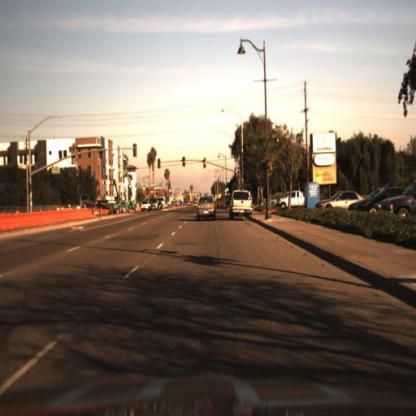car: (378, 175, 416, 220), (350, 183, 400, 216), (316, 189, 367, 215), (225, 188, 256, 228), (228, 188, 258, 223), (322, 186, 352, 217), (278, 187, 311, 213), (273, 189, 307, 210), (196, 195, 218, 221), (349, 193, 360, 219), (149, 196, 160, 215)
trafficLight-Yellow: (181, 155, 189, 168)
